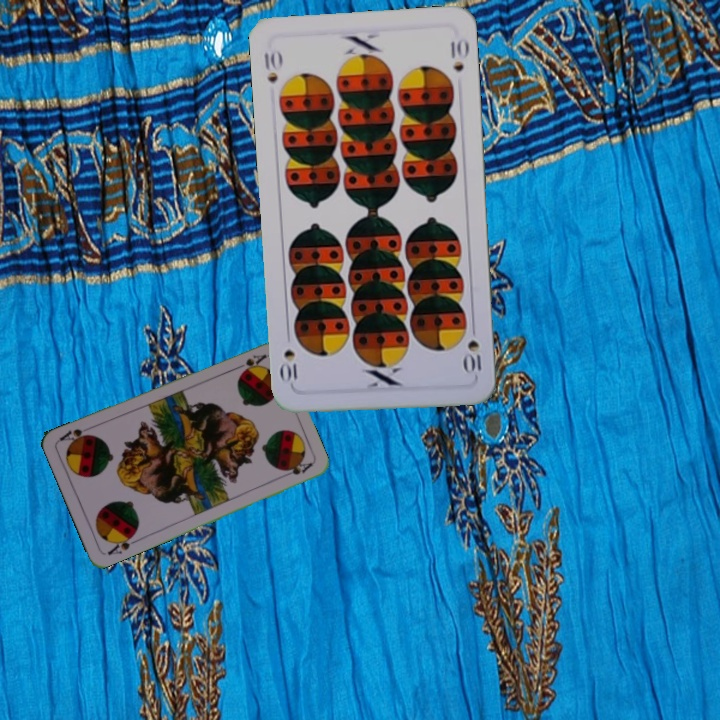S10: (461, 319, 486, 379), (260, 46, 284, 87)
SA: (103, 529, 141, 557), (230, 350, 269, 375)
